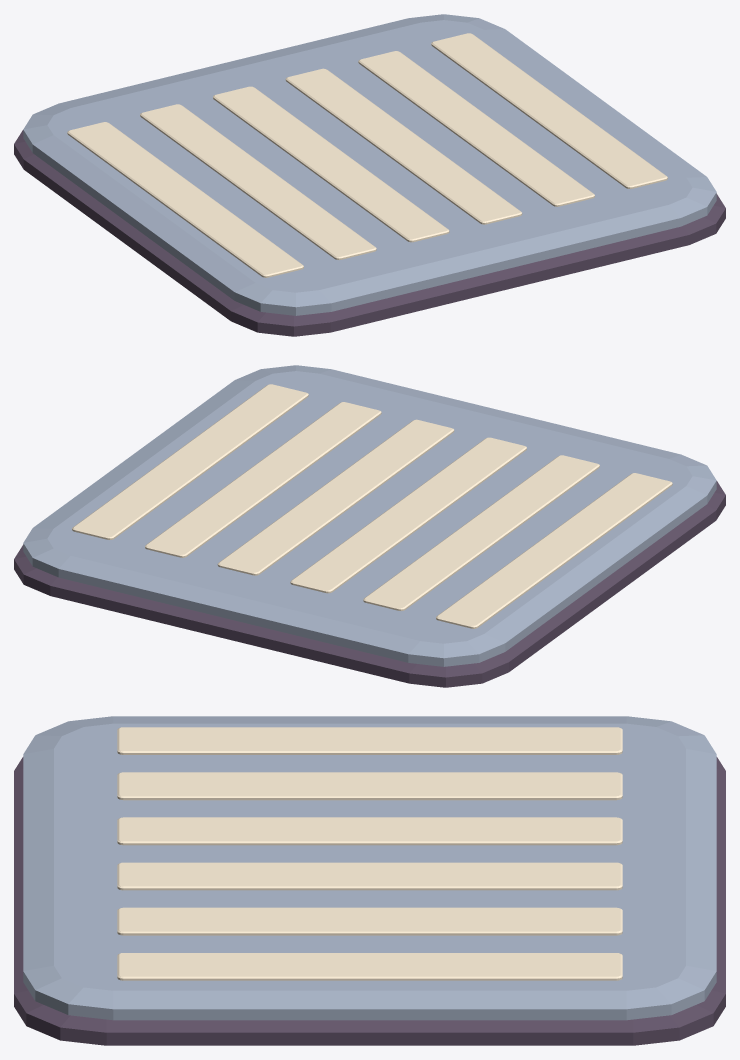
File: tile_crosswalk.glb
3 views of the same model, one above another, from view 1: azimuth 30°, elevation 25°; view 2: azimuth 150°, elevation 25°; view 3: azimuth 270°, elevation 25° (orthographic). The views are drawn at different scales.
Visible parts, largest first — view 1: model; view 2: model; view 3: model.
Boxes of the visible parts, bbox=[...] form: model: bbox=[14, 14, 725, 336]; model: bbox=[14, 365, 725, 687]; model: bbox=[14, 716, 725, 1045].
Size of the model in its own units: 2 by 0.15 by 2.
